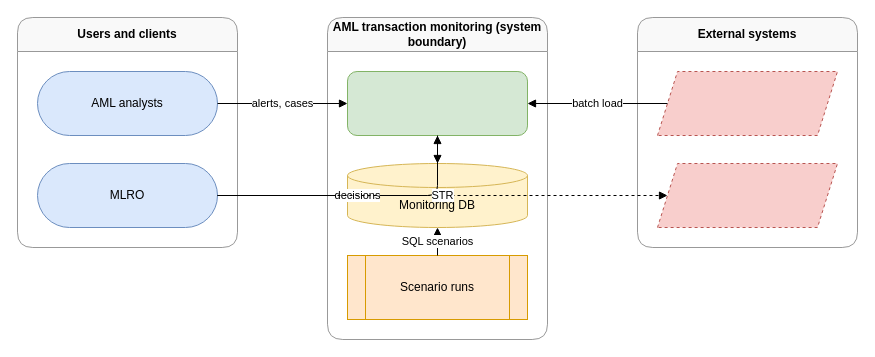
The diagram is 875 pixels wide and 357 high, and some of its shapes have lost their labels. Each missing label, with the centre of its shape:
AML monitoring API: the point at 437,103
Financial intelligence unit (STR filing, out of scope): the point at 747,195
IBM AMLworld dataset (CDLA-Sharing-1.0): the point at 747,103
